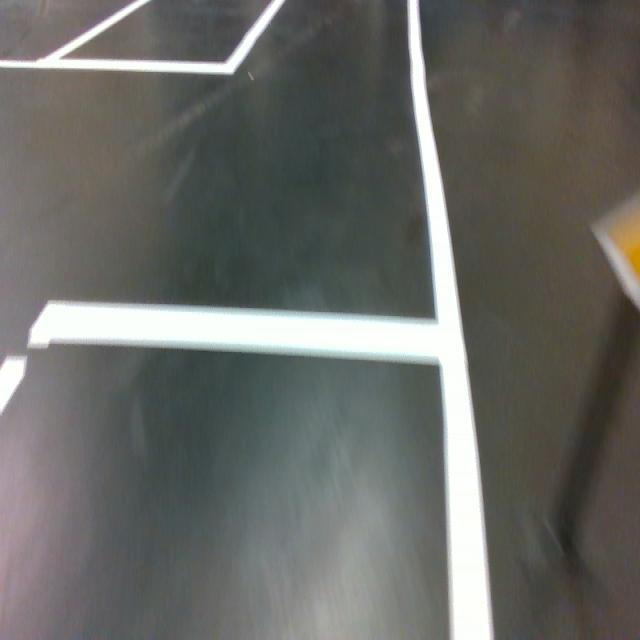priority-sign: (586, 178, 640, 322)
